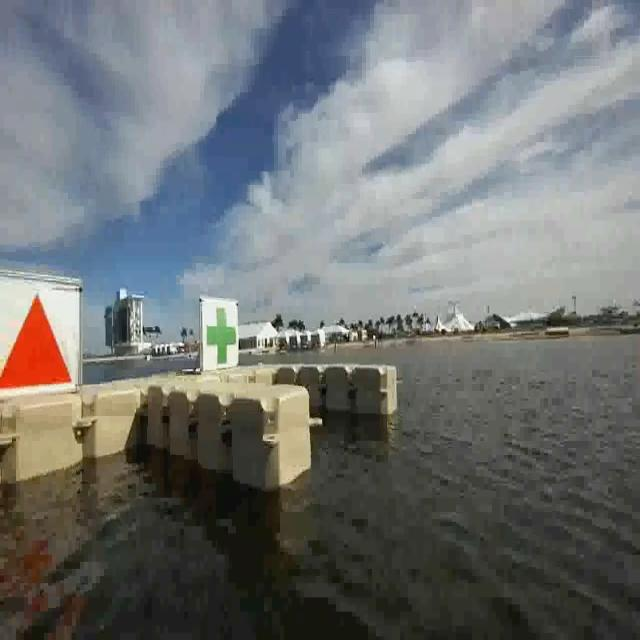blue-cross: (197, 297, 240, 369)
red-dot: (0, 270, 84, 394)
